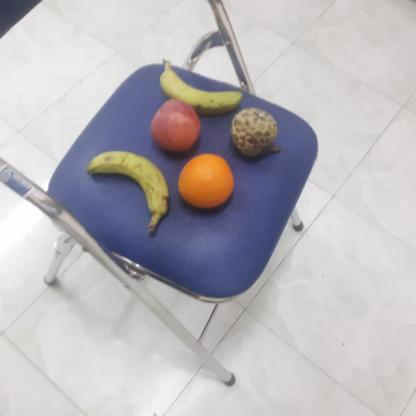annona: (230, 105, 280, 156)
apple: (148, 99, 202, 153)
banana: (86, 150, 170, 215), (154, 64, 244, 116)
orange: (175, 150, 236, 210)
